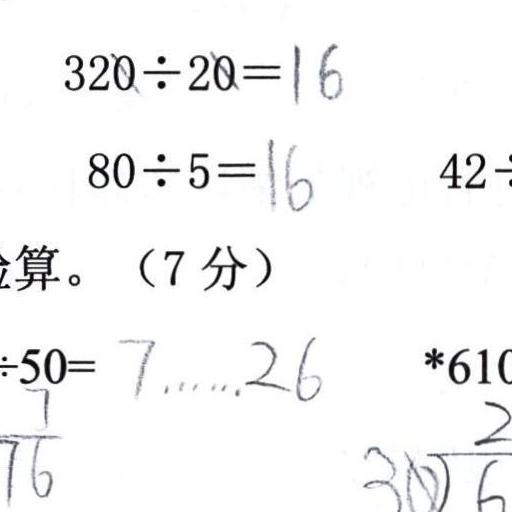ans: (112, 326, 323, 403), (259, 133, 314, 213), (283, 36, 343, 104)
